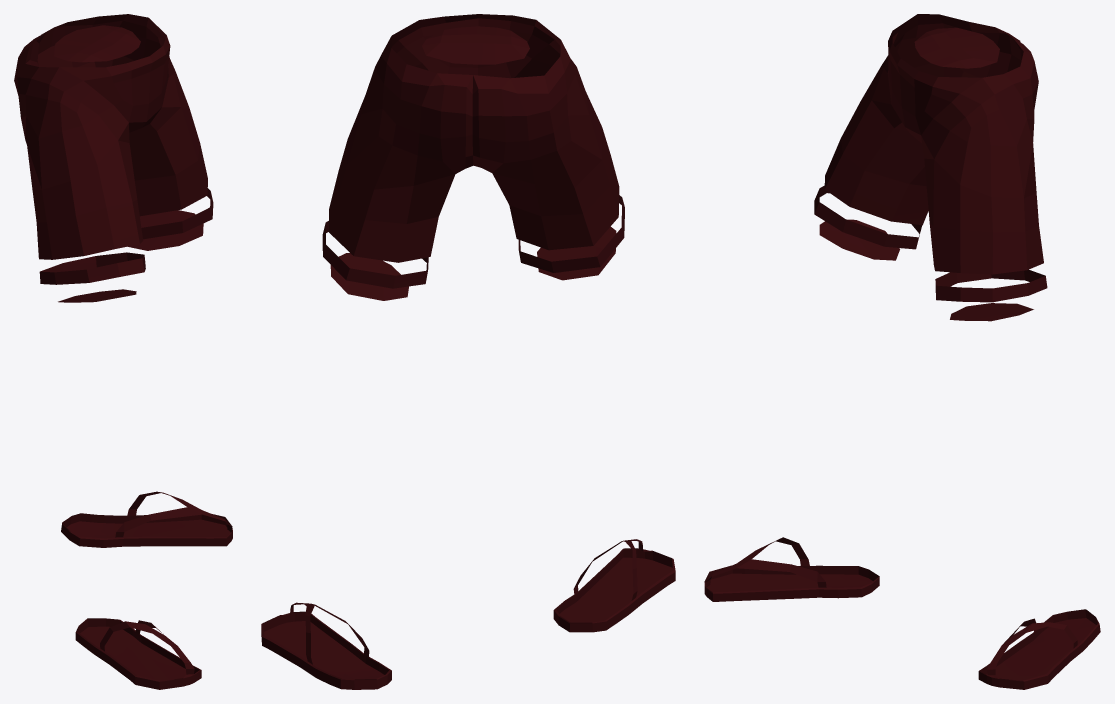
Rendered from Red_Dark_001.obj.
3 views of the same model, side by side, from view 1: azimuth 30°, elevation 25°; view 2: azimuth 150°, elevation 25°; view 3: azimuth 270°, elevation 25° (orthographic). The views are drawn at different scales.
Size of the model in its own units: 0.4723 by 1 by 0.6342.
